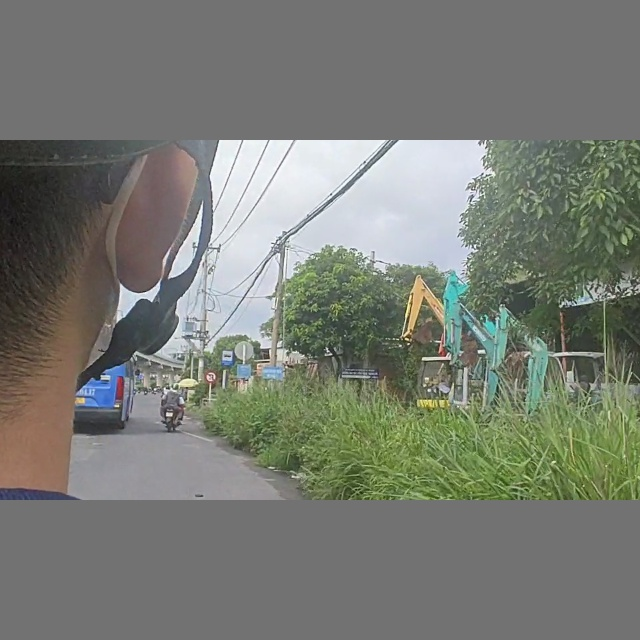I.434a: (221, 349, 234, 367)
P.123a: (205, 370, 217, 383)
